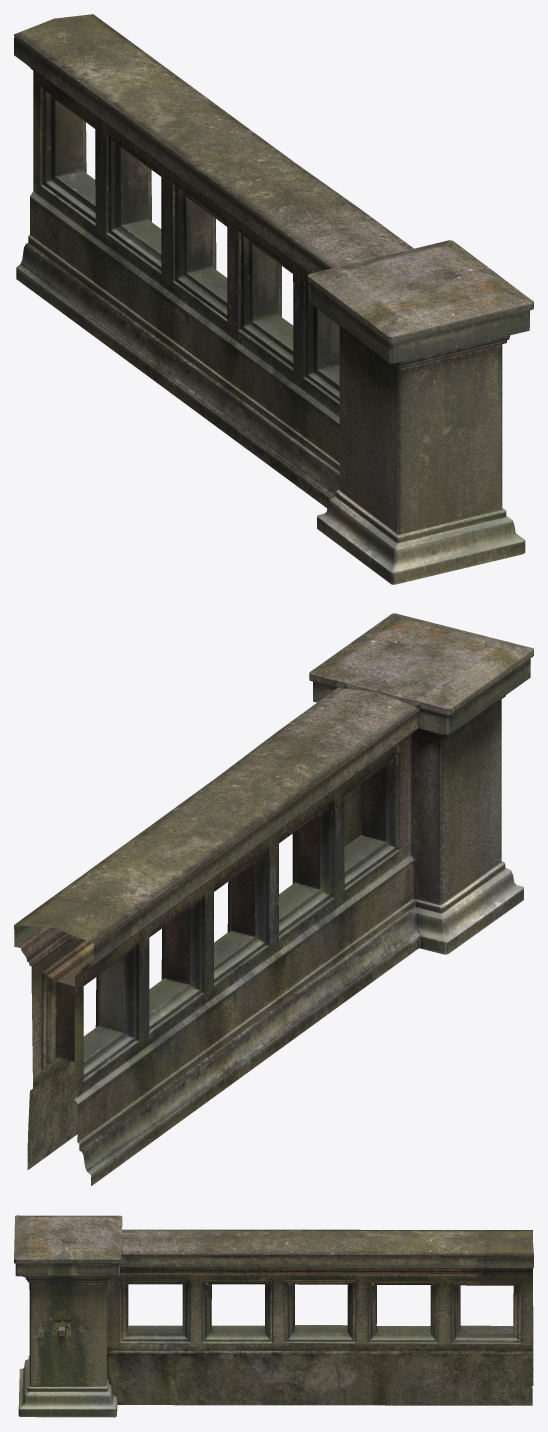
Rendered from sm_GraveBanister_01_04.fbx.
3 views of the same model, one above another, from view 1: azimuth 30°, elevation 25°; view 2: azimuth 150°, elevation 25°; view 3: azimuth 270°, elevation 25° (orthographic). The views are drawn at different scales.
Parts seen in each view (by area): view 1: sm_GraveBanister_01_04_LOD0; view 2: sm_GraveBanister_01_04_LOD0; view 3: sm_GraveBanister_01_04_LOD0.
Part boxes in pixels (x1,y1,x2,y2): sm_GraveBanister_01_04_LOD0: (14, 14, 533, 584); sm_GraveBanister_01_04_LOD0: (14, 613, 533, 1185); sm_GraveBanister_01_04_LOD0: (14, 1215, 533, 1417).
Bounding box in the file's own units: 42.61 × 209 × 72.57.
